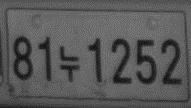1: (86, 36, 103, 85), (37, 36, 53, 83)
2: (108, 38, 133, 85), (160, 38, 182, 86)
5: (135, 38, 157, 85)
8: (12, 35, 34, 81)
누: (58, 44, 81, 83)
